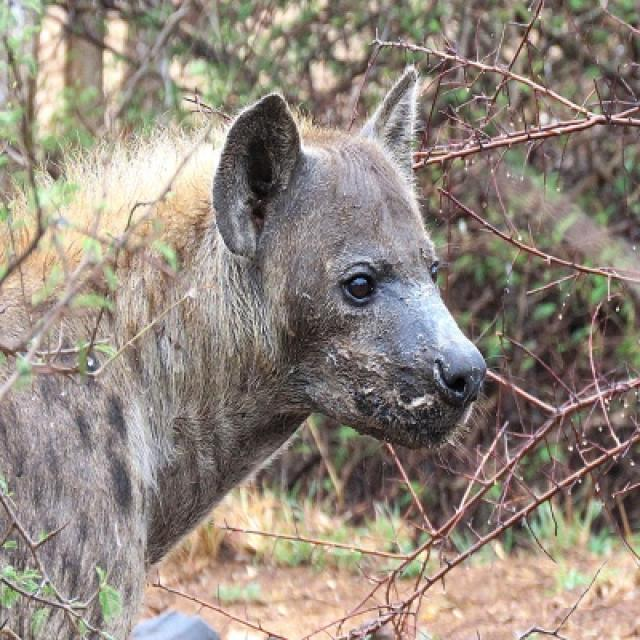hyena: (0, 69, 485, 638)
